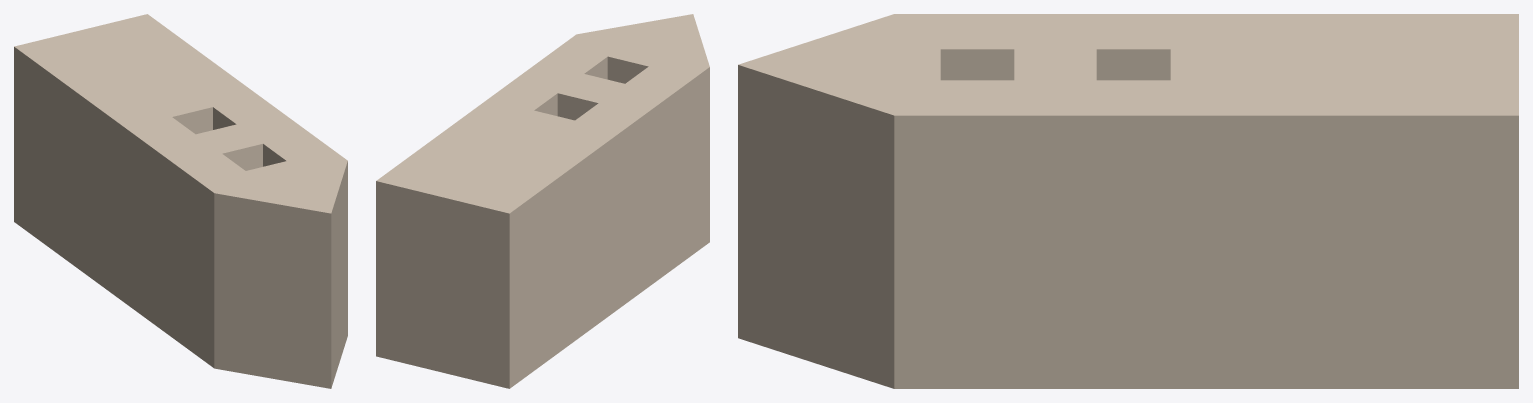
The model's file is tinker.obj.
The picture shows the model from 3 angles, left to right: view 1: azimuth 30°, elevation 25°; view 2: azimuth 150°, elevation 25°; view 3: azimuth 270°, elevation 25°; orthographic projection. The views are drawn at different scales.
Parts seen in each view (by area): view 1: obj_0; view 2: obj_0; view 3: obj_0.
Part boxes in pixels (x1,y1,x2,y2): obj_0: (14,14,347,388); obj_0: (376,14,709,388); obj_0: (738,14,1518,388).
Bounding box in the file's own units: 20 × 25.11 × 65.
